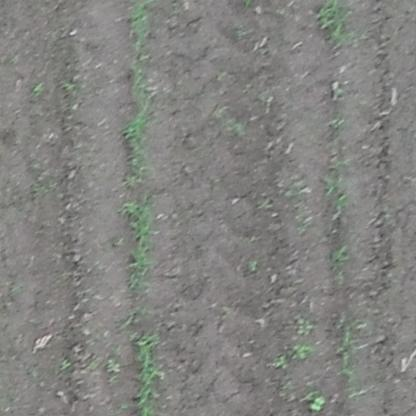corn: (119, 196, 159, 287), (123, 4, 158, 87), (133, 329, 161, 410), (123, 100, 154, 173), (317, 2, 360, 50)
vc: (310, 395, 324, 412)
